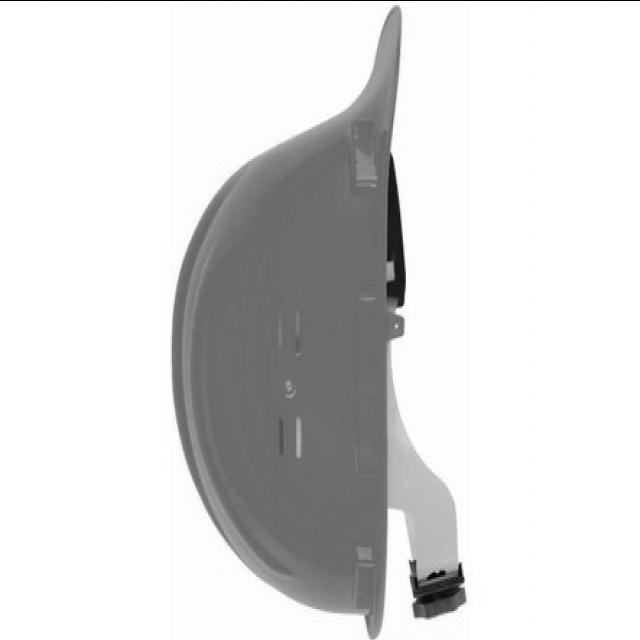safety_helmet: (172, 4, 464, 636)
